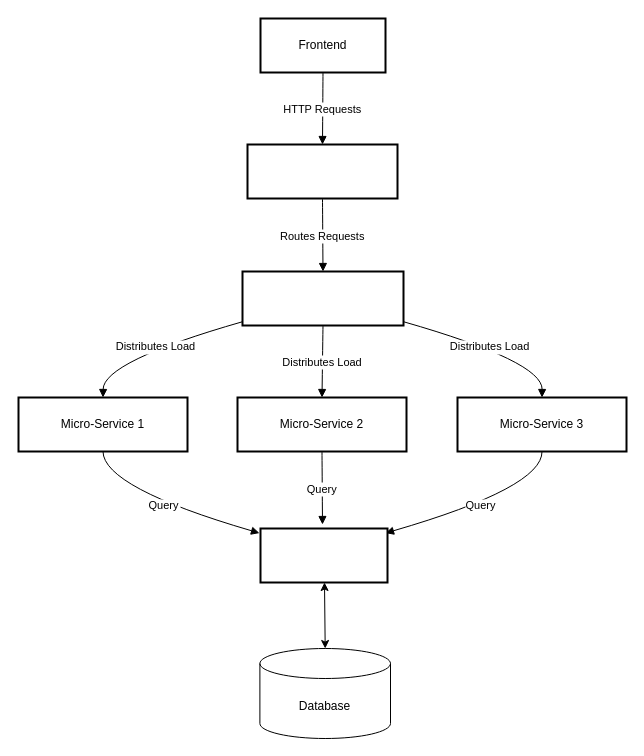
Image size: 644x756. Some labels were removed from this diagram. Each missing label, with the centre of its shape:
"API Gateway" belongs at [322,171].
"Hibernate/JPA" belongs at [323,555].
"Load Balancer" belongs at [322,298].
